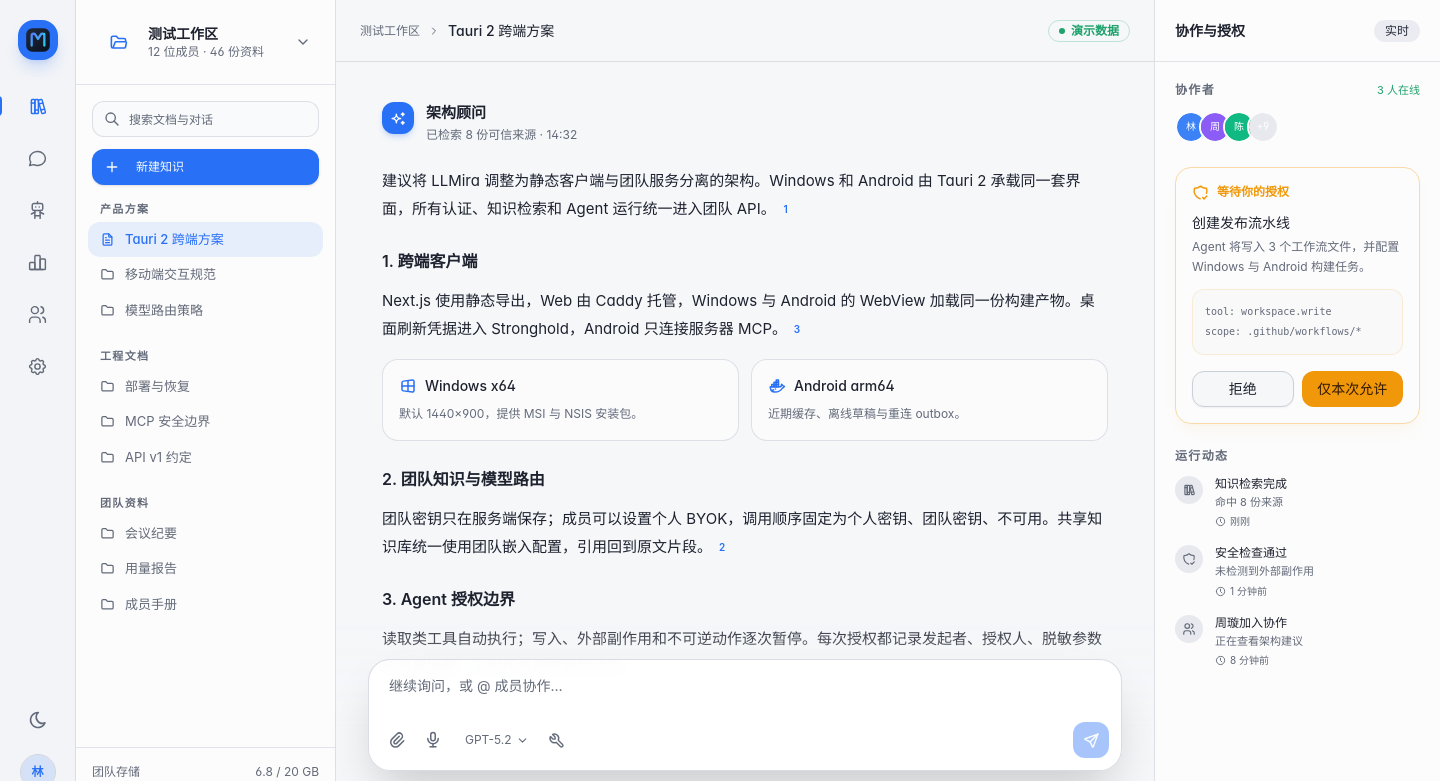
Test: TeamWorkbench › moves settings out of the chat sidebar
Click the button named "设置" at (38, 366), box 16,344 -> 60,388
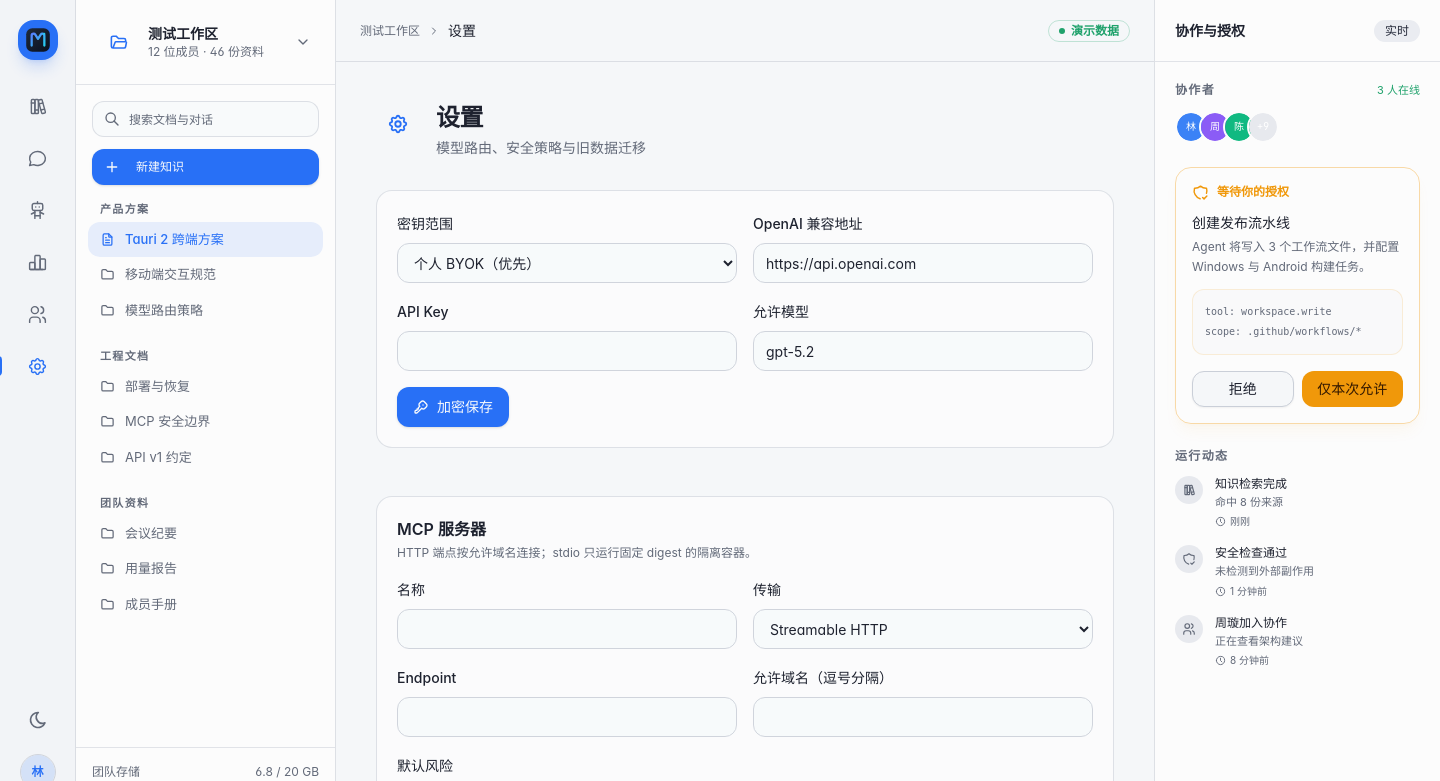
Result: the heading "设置" is shown at 436,103 -> 483,132
